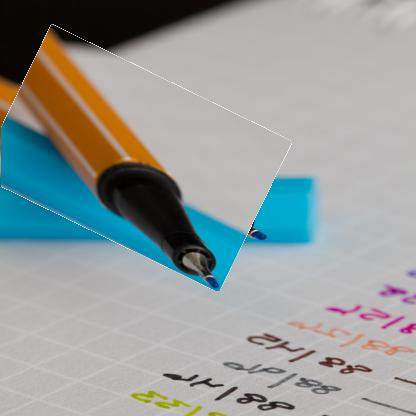Pen: (1, 49, 281, 268)
